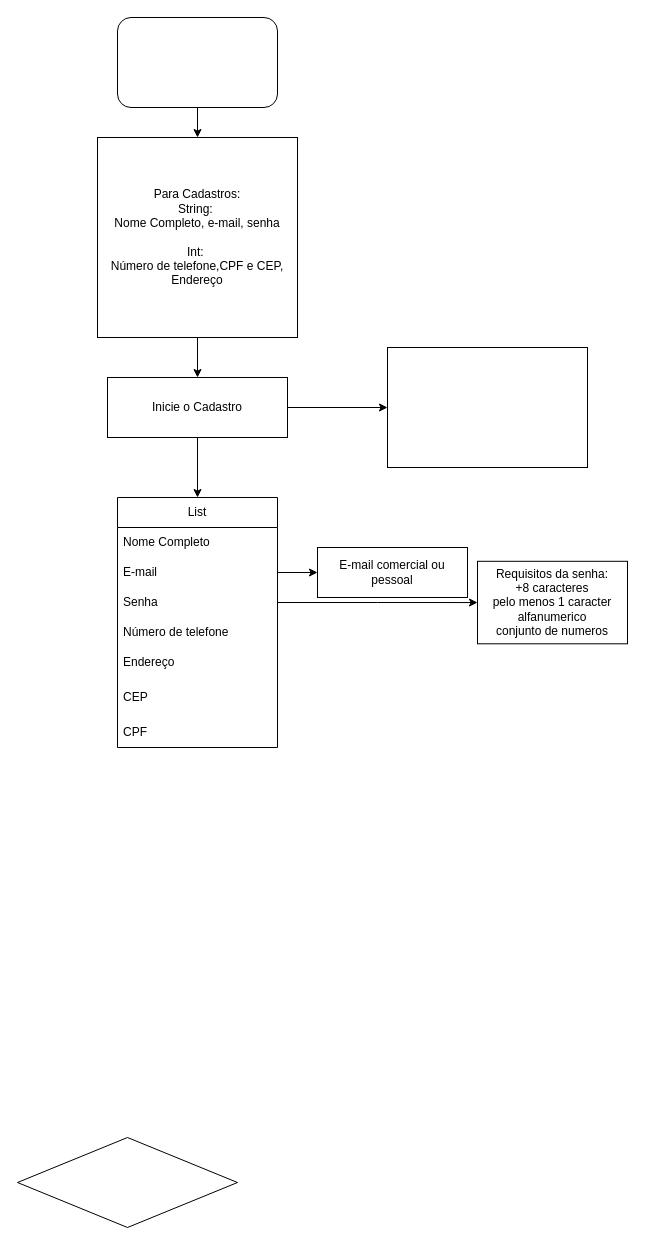
Some shapes in this 645 by 1245 pixel diagram are drawn without their labels. The shapes that lost their labels are listed below. From the top down, each one's centre as x and y in pixels, then its label:
At [197,62]: "Start".
At [487,407]: "precisa salvar as informações os em disco, seja banco de dados, xml, csv".
At [127,1182]: "Processo de Login".
